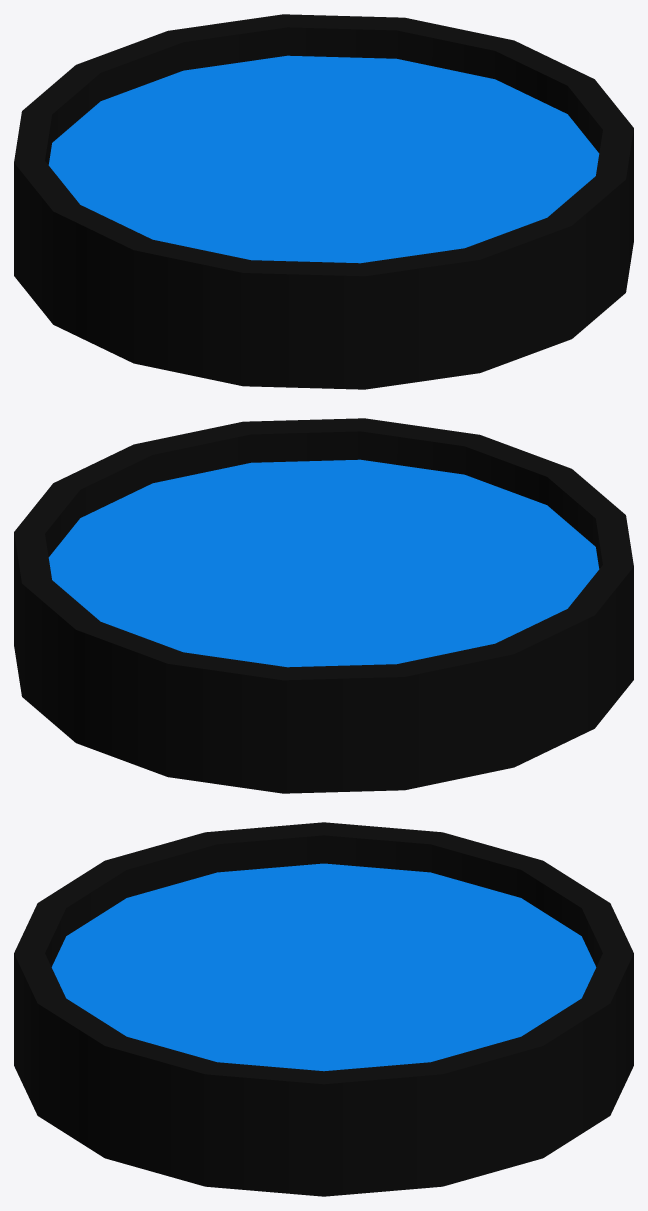
Rendered from SM_Radar.FBX.
3 renders of one model, top to bottom at view 1: azimuth 30°, elevation 25°; view 2: azimuth 150°, elevation 25°; view 3: azimuth 270°, elevation 25°, orthographic.
Visible parts, largest first — view 1: SM_Radar; view 2: SM_Radar; view 3: SM_Radar.
Part boxes in pixels (x1,y1,x2,y2): SM_Radar: (14, 14, 633, 389); SM_Radar: (14, 418, 633, 793); SM_Radar: (14, 822, 633, 1196).
Bounding box in the file's own units: 20 × 20 × 4.
